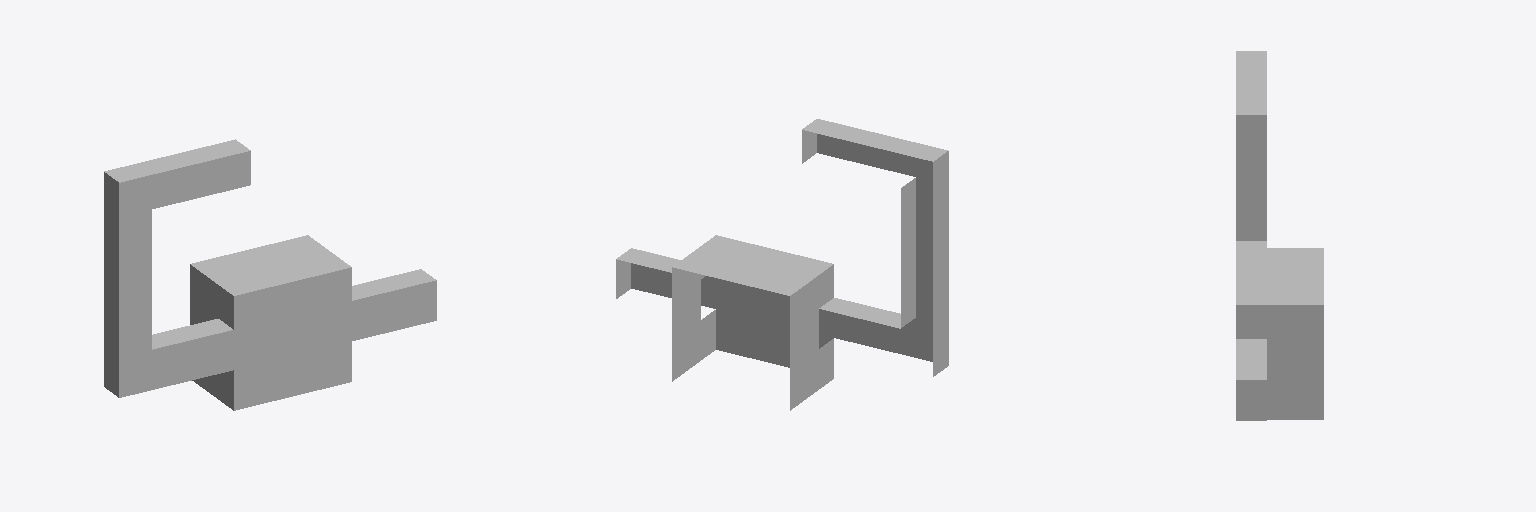
Rendered from fire_dungeon.obj.
3 renders of one model, left to right at view 1: azimuth 30°, elevation 25°; view 2: azimuth 150°, elevation 25°; view 3: azimuth 270°, elevation 25°, orthographic.
Visible parts, largest first — view 1: Cube.002; view 2: Cube.002; view 3: Cube.002.
Part boxes in pixels (bbox=[...]): Cube.002: bbox=[104, 139, 436, 410]; Cube.002: bbox=[616, 119, 948, 410]; Cube.002: bbox=[1236, 51, 1323, 420].
Size of the model in its own units: 64.42 by 49.65 by 15.48.